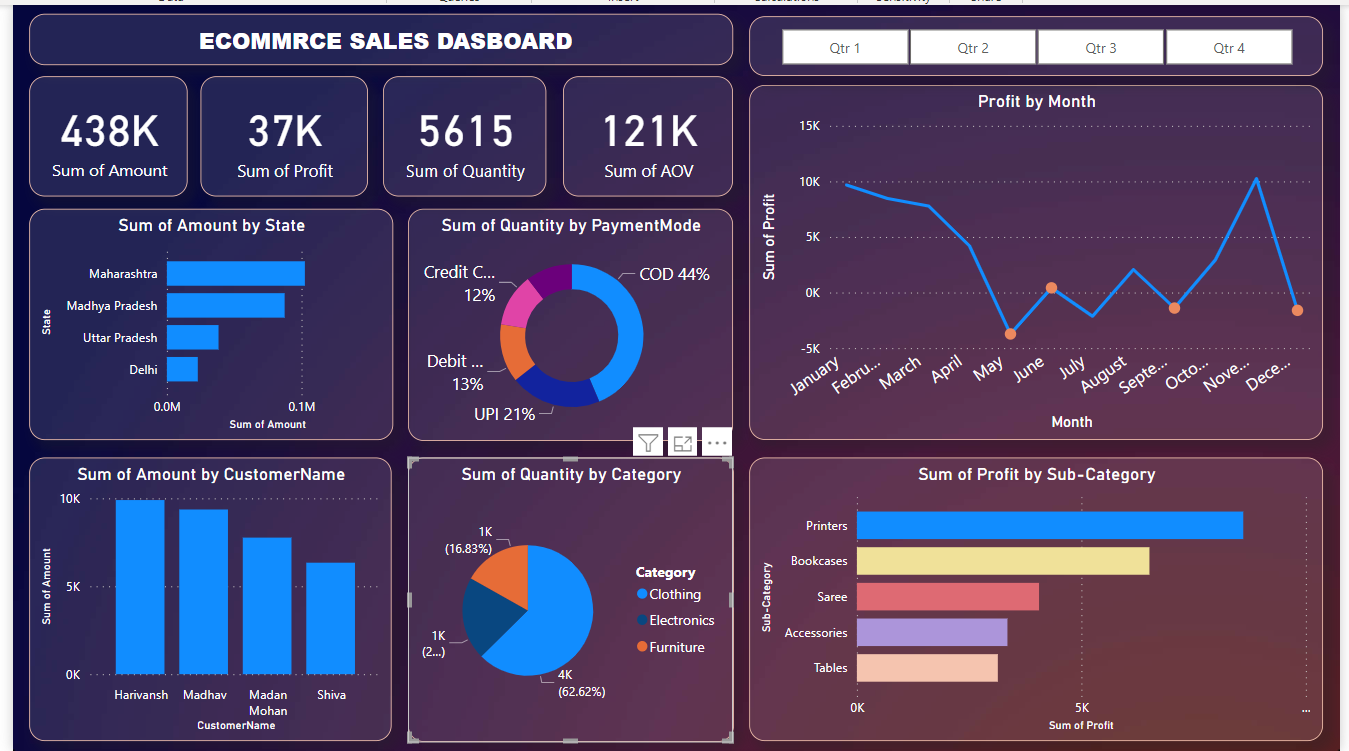

What the dashboard file says about the page in this screenshot:
{"tool":"powerbi","page":{"name":"Page 1","canvas":[1280,720],"ordinal":0},"visuals":[{"type":"textbox","box":[8.7,6.2,691.5,49.6],"z":0},{"type":"lineChart","title":" Profit by Month","fields":{"Category":["Orders.Order Date.Variation.Date Hierarchy.Month"],"Y":["Details.Profit"]},"box":[707.6,78.1,565.1,354.4],"z":1000},{"type":"barChart","fields":{"Category":["Details.Sub-Category"],"Y":["Details.Profit"]},"box":[707.6,439.9,565.1,273.9],"z":2000},{"type":"donutChart","fields":{"Y":["Details.Quantity"],"Category":["Details.PaymentMode","Details.Category"]},"box":[373,188.4,327.2,244.1],"z":3000},{"type":"card","fields":{"Values":["Details.Amount"]},"box":[8.7,63.2,167.3,116.5],"z":4000},{"type":"card","fields":{"Values":["Details.Quantity"]},"box":[366.8,63.2,164.8,116.5],"z":5000},{"type":"card","fields":{"Values":["Details.Profit"]},"box":[180.9,63.2,178.4,116.5],"z":6000},{"type":"card","fields":{"Values":["Details.AOV"]},"box":[537.8,63.2,162.3,116.5],"z":7000},{"type":"barChart","fields":{"Y":["Details.Amount"],"Category":["Orders.State"]},"box":[8.7,188.4,358.1,244.1],"z":8000},{"type":"columnChart","fields":{"Category":["Orders.CustomerName"],"Y":["Details.Amount"]},"box":[8.7,439.9,358.1,273.9],"z":9000},{"type":"slicer","fields":{"Values":["Orders.Order Date.Variation.Date Hierarchy.Quarter"]},"box":[707.6,6.2,565.1,65.7],"z":10000},{"type":"pieChart","fields":{"Category":["Details.Category"],"Y":["Details.Quantity"]},"box":[373,439.9,327.2,273.9],"z":11000}]}

Visuals, with their boxes in screenshot pixels (x1, y1, x2, y2), scaled from the page's 1280x720 canvas onto the 1349x751 screenshot:
textbox: detection(9, 6, 738, 58)
" Profit by Month" lineChart: detection(746, 81, 1341, 451)
barChart - Details.Sub-Category x Details.Profit: detection(746, 459, 1341, 745)
donutChart - Details.Quantity x Details.PaymentMode: detection(393, 197, 738, 451)
card - Details.Amount: detection(9, 66, 185, 187)
card - Details.Quantity: detection(387, 66, 560, 187)
card - Details.Profit: detection(191, 66, 379, 187)
card - Details.AOV: detection(567, 66, 738, 187)
barChart - Details.Amount x Orders.State: detection(9, 197, 387, 451)
columnChart - Orders.CustomerName x Details.Amount: detection(9, 459, 387, 745)
slicer - Orders.Order Date.Variation.Date Hierarchy.Quarter: detection(746, 6, 1341, 75)
pieChart - Details.Category x Details.Quantity: detection(393, 459, 738, 745)
